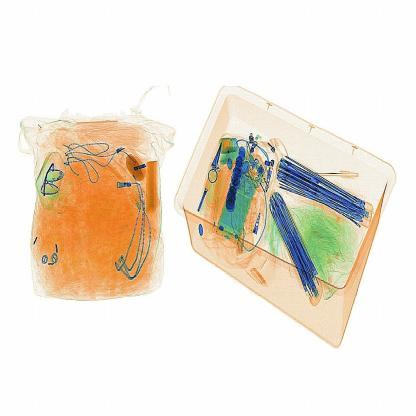pliers: (294, 163, 362, 188)
